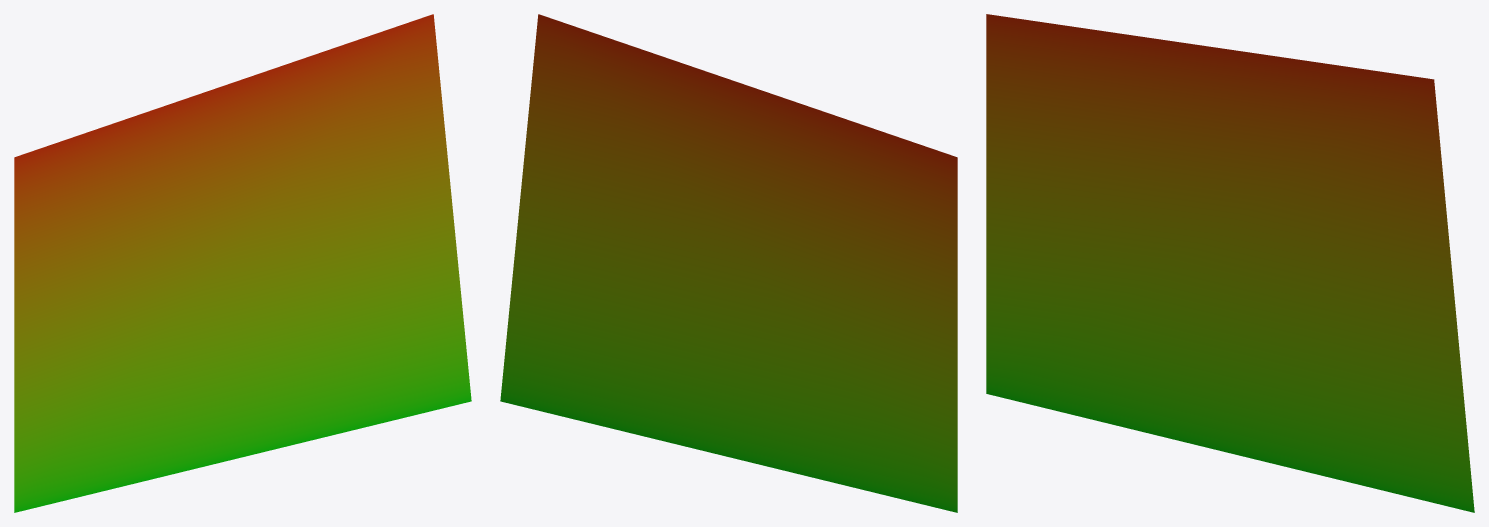
File: Var2_LOD3.fbx
3 renders of one model, left to right at view 1: azimuth 30°, elevation 25°; view 2: azimuth 150°, elevation 25°; view 3: azimuth 330°, elevation 25°, orthographic. The views are drawn at different scales.
Visible parts, largest first — view 1: _38d7_Var2_LOD3; view 2: _38d7_Var2_LOD3; view 3: _38d7_Var2_LOD3.
Part boxes in pixels (x1=…): _38d7_Var2_LOD3: x1=14, y1=14, x2=471, y2=512; _38d7_Var2_LOD3: x1=500, y1=14, x2=957, y2=512; _38d7_Var2_LOD3: x1=986, y1=14, x2=1474, y2=512.
Bounding box in the file's own units: 30.6 × 25.37 × 2.38e-07.
